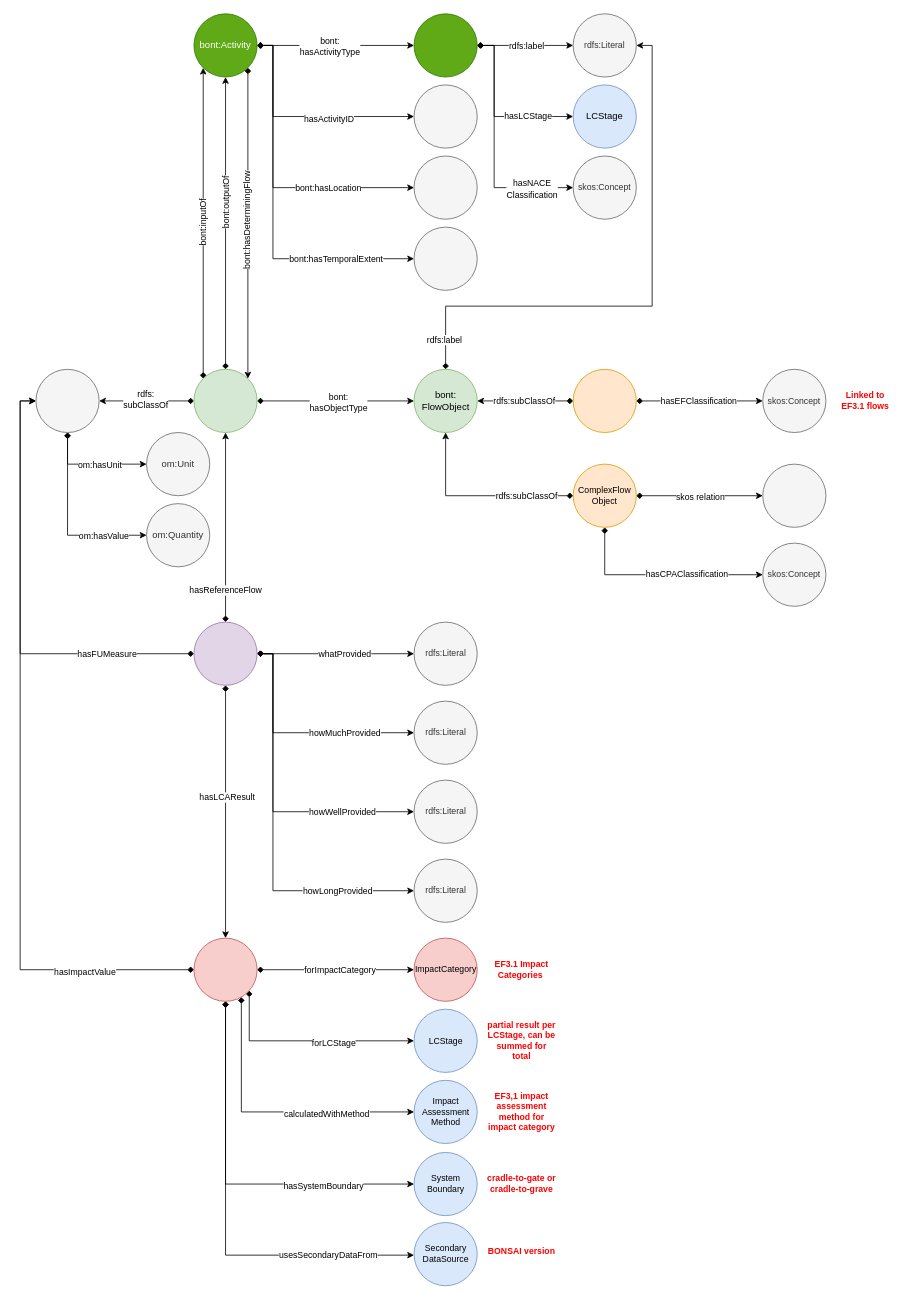
The diagram is 911 pixels wide and 1300 high, and some of its shapes have lost their labels. The shapes that lost their labels are listed below. From the top down, each one's centre as x and y in pixels, then its label:
At [445,45]: "bont: ActivityType".
At [445,116]: "dcterms: identifier".
At [445,187]: "schema:Place".
At [445,258]: "time: ProperInterval".
At [67,401]: "om:Measure".
At [225,401]: "bont:Flow".
At [604,401]: "Elementary FlowObject".
At [794,495]: "Background".
At [225,653]: "Functional Unit".
At [225,969]: "LCAResult".
